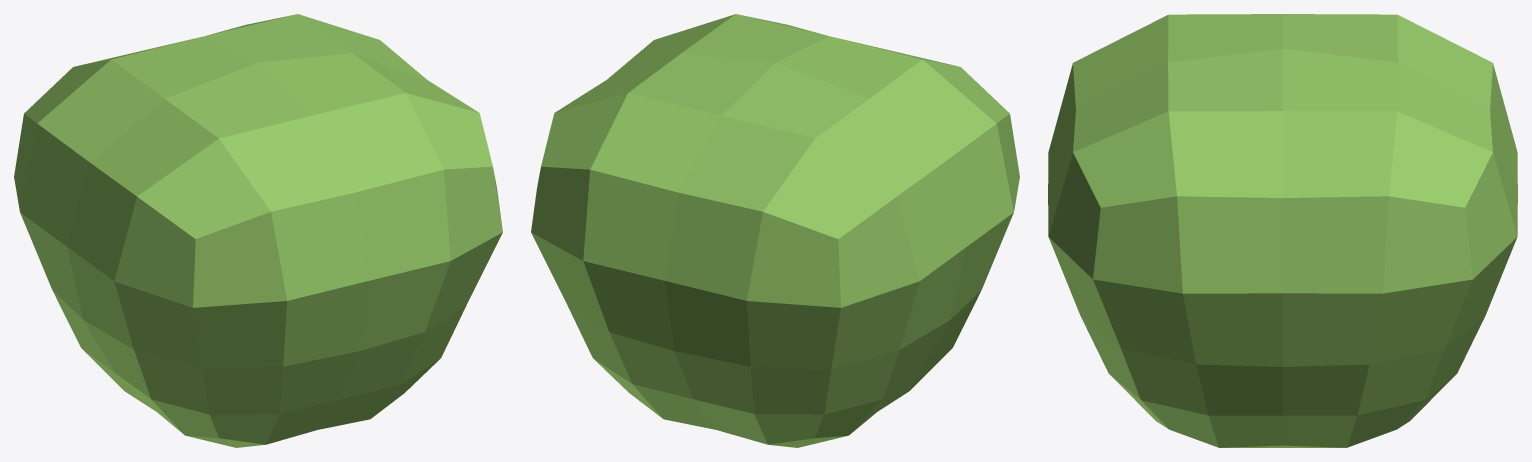
The model's file is Thuja_BushTree_s_07.fbx.
3 renders of one model, left to right at view 1: azimuth 30°, elevation 25°; view 2: azimuth 150°, elevation 25°; view 3: azimuth 270°, elevation 25°, orthographic. The views are drawn at different scales.
Parts seen in each view (by area): view 1: Thuja_BushTree_s_07; view 2: Thuja_BushTree_s_07; view 3: Thuja_BushTree_s_07.
Part boxes in pixels (box(x1,y1,x2,y2)): Thuja_BushTree_s_07: box(14, 14, 502, 447); Thuja_BushTree_s_07: box(531, 14, 1019, 447); Thuja_BushTree_s_07: box(1048, 14, 1517, 447).
Bounding box in the file's own units: 197 × 176 × 197.
